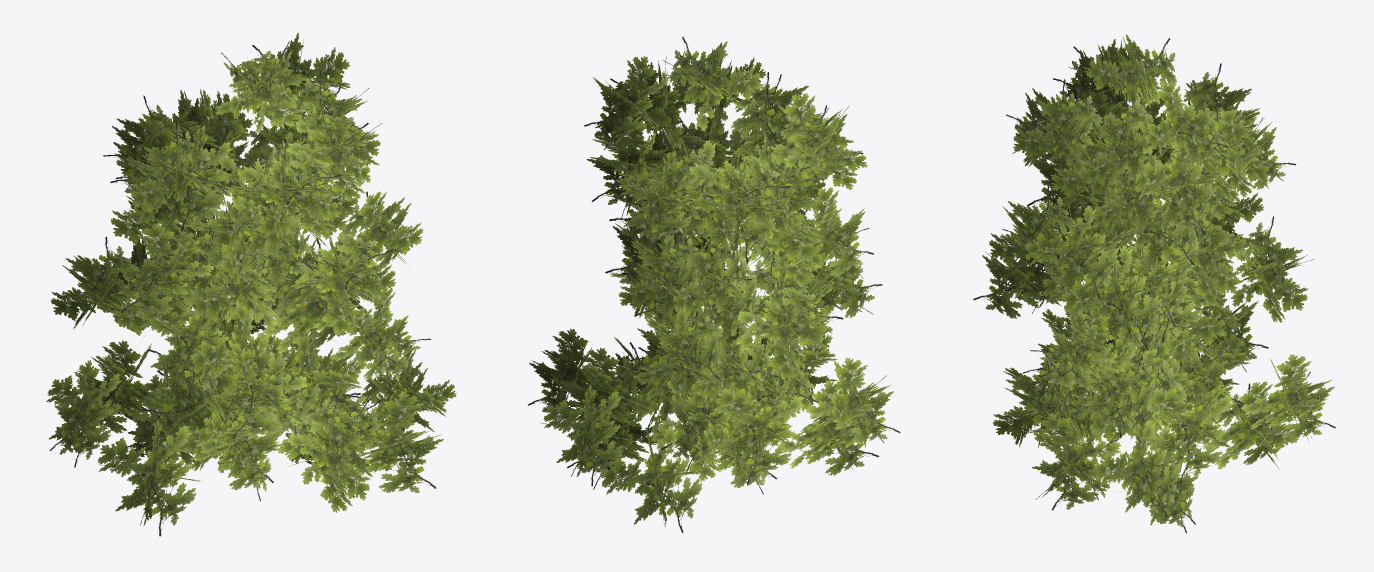
File: oak leaves.fbx
3 views of the same model, side by side, from view 1: azimuth 30°, elevation 25°; view 2: azimuth 150°, elevation 25°; view 3: azimuth 270°, elevation 25° (orthographic). The views are drawn at different scales.
Visible parts, largest first — view 1: branch-png-2000x1299_fd21a8eb_transparent_2027bf.png_1; view 2: branch-png-2000x1299_fd21a8eb_transparent_2027bf.png_1; view 3: branch-png-2000x1299_fd21a8eb_transparent_2027bf.png_1.
Part boxes in pixels (x1=…): branch-png-2000x1299_fd21a8eb_transparent_2027bf.png_1: x1=46, y1=33, x2=456, y2=536; branch-png-2000x1299_fd21a8eb_transparent_2027bf.png_1: x1=528, y1=37, x2=900, y2=532; branch-png-2000x1299_fd21a8eb_transparent_2027bf.png_1: x1=973, y1=34, x2=1335, y2=533.
Bounding box in the file's own units: 5.69 × 6.6 × 4.96.
1 material, 1 textured.
